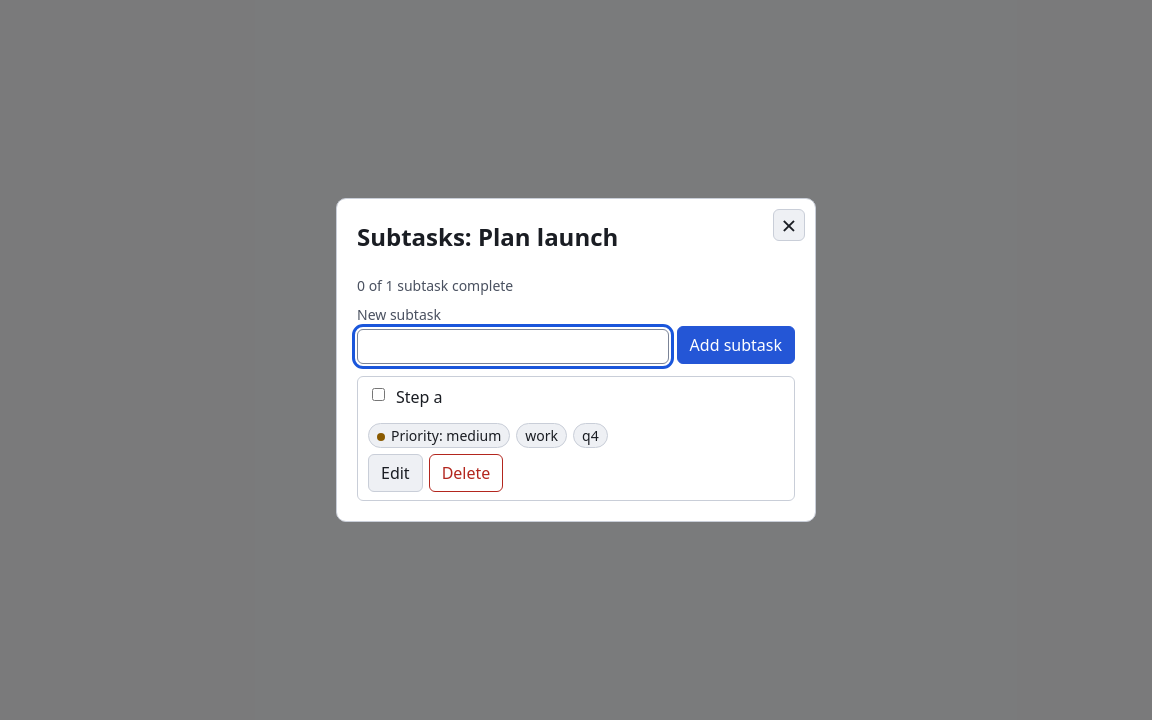
SubtasksDialog details, edit, delete, and move (US4) › edits title, priority, and due date, then returns focus to the Edit button
Click the button with aria-label "Edit Step a": (395,473) [368,454,423,492]
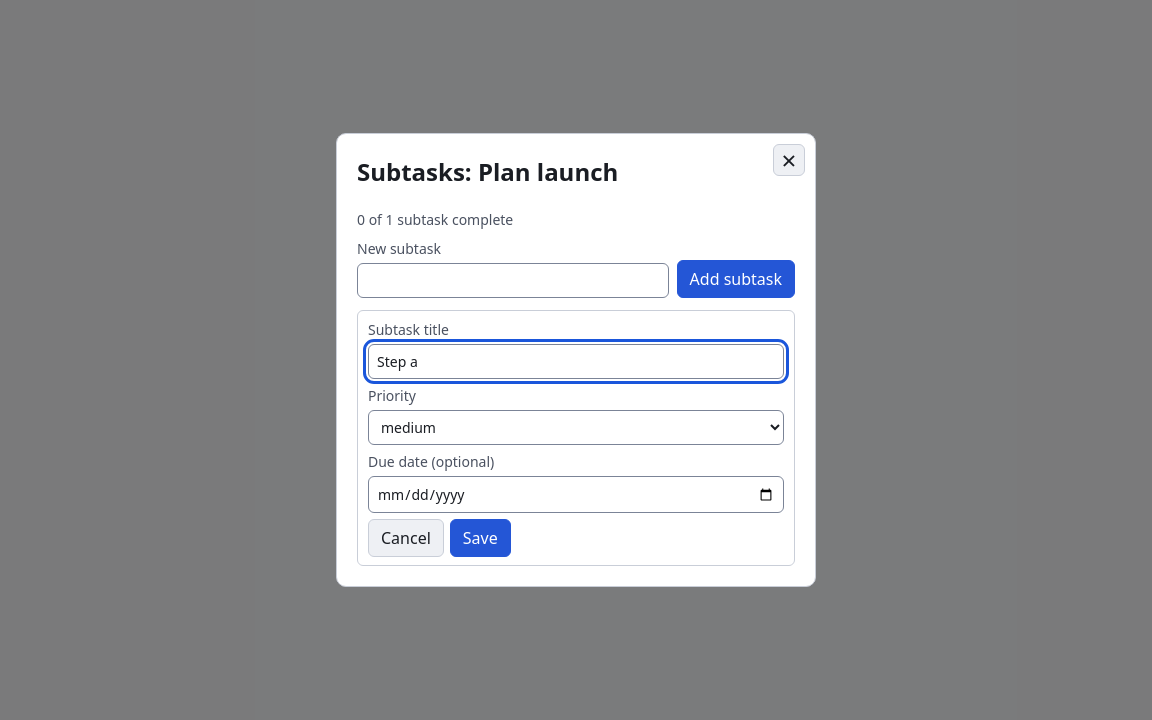
Replace the text in the field labelled "Subtask title" with "Renamed": (576,362) [368,344,784,380]
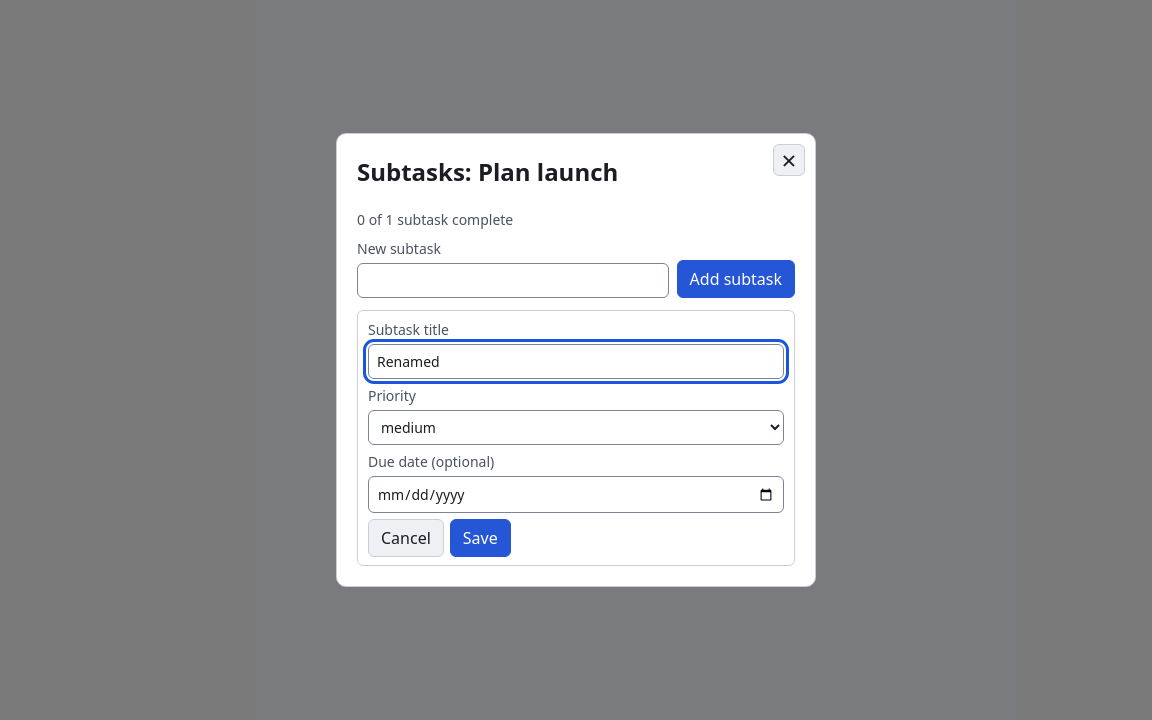
Select "high" in the dropdown labelled "Priority": (576,428) [368,410,784,446]
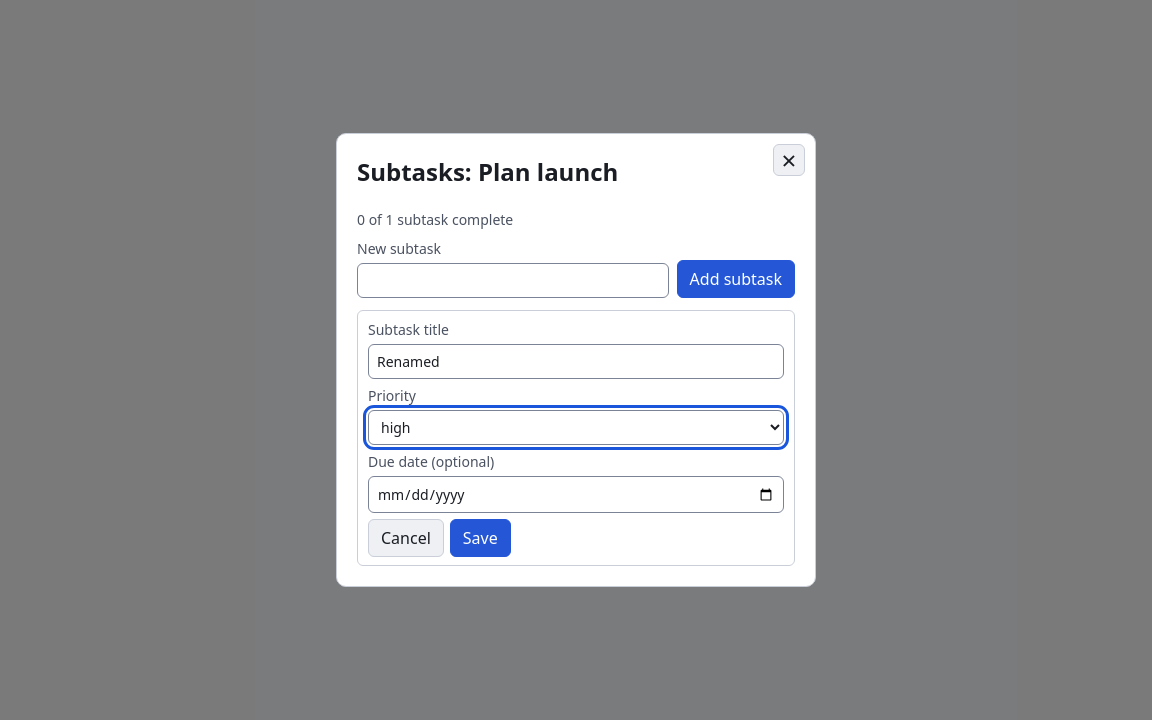
In the date field labelled "Due date (optional)": (576,495) [368,476,784,514], type "2026-10-30"
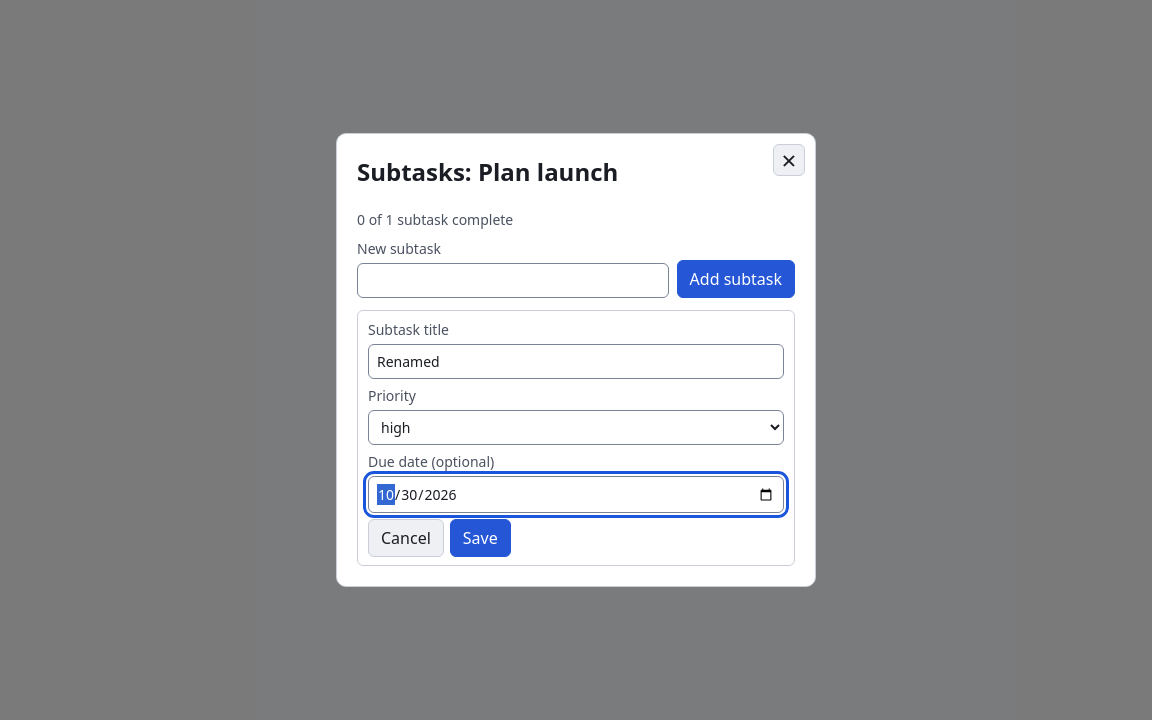
Click the button "Save": (480,538) [450,520,511,558]
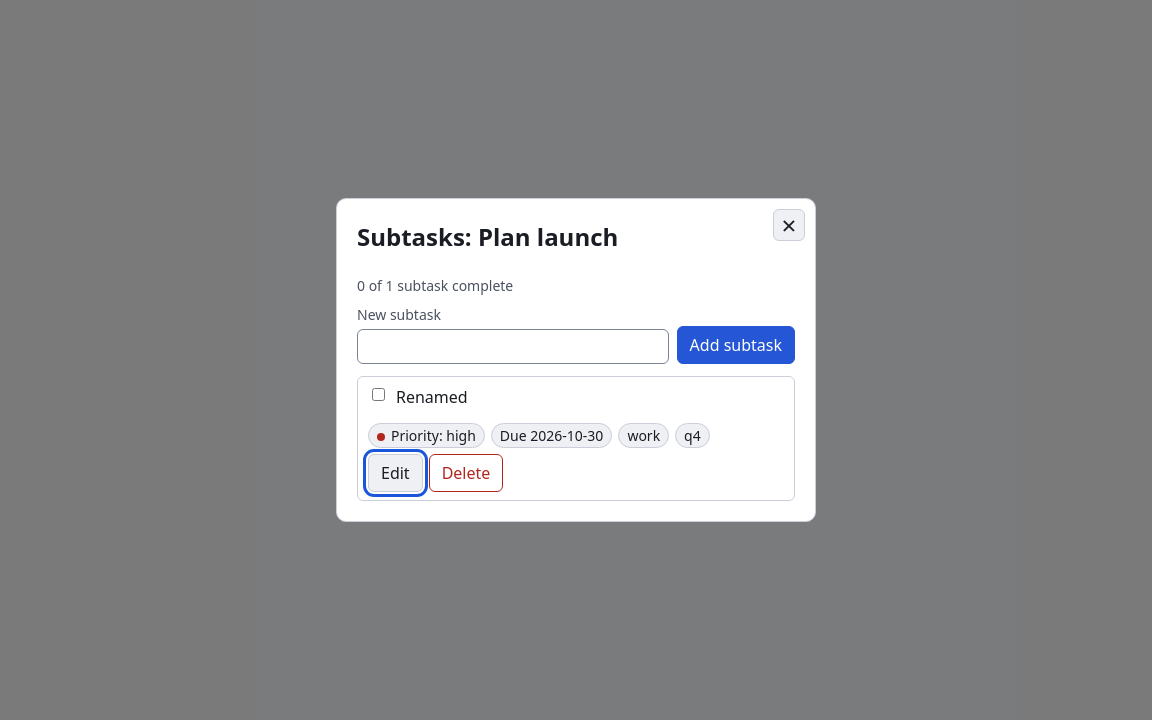
Result: the text "Due 2026-10-30" is shown at [491,423,612,448]
